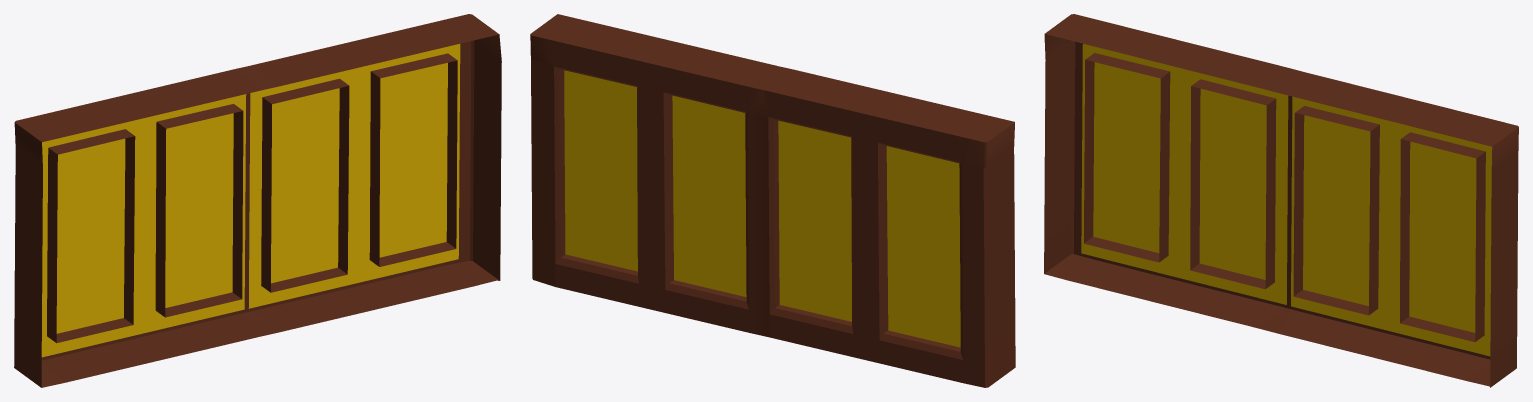
File: Window_Large.fbx
3 views of the same model, side by side, from view 1: azimuth 30°, elevation 25°; view 2: azimuth 150°, elevation 25°; view 3: azimuth 330°, elevation 25° (orthographic). The views are drawn at different scales.
Parts seen in each view (by area): view 1: Window_Large; view 2: Window_Large; view 3: Window_Large.
Part boxes in pixels (box(x1,y1,x2,y2)): Window_Large: box(14, 14, 501, 387); Window_Large: box(530, 14, 1015, 387); Window_Large: box(1044, 14, 1518, 387).
Size of the model in its own units: 0.0147 by 0.00762 by 0.00166.
